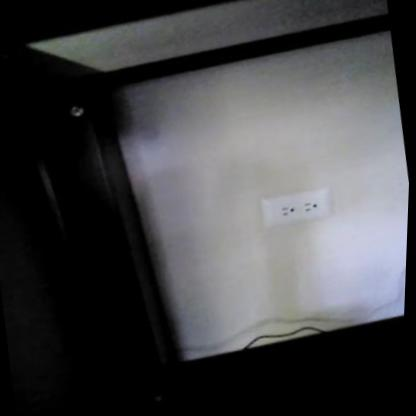OUTLET: (257, 185, 335, 230)
